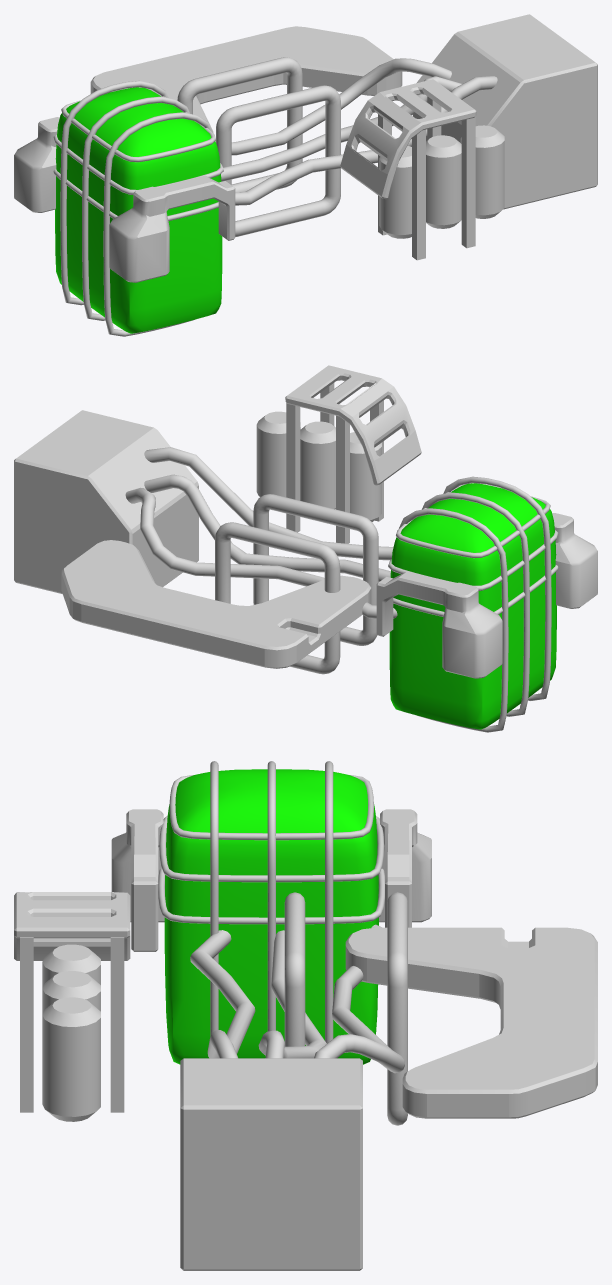
The model's file is static.glb.
3 views of the same model, one above another, from view 1: azimuth 30°, elevation 25°; view 2: azimuth 150°, elevation 25°; view 3: azimuth 270°, elevation 25° (orthographic). The views are drawn at different scales.
Parts seen in each view (by area): view 1: Cube_4, Cube, Boole_2, Cube_2_2, Sweep, Boole, Sweep_1_2, Sweep_Instance, Sweep_0, Cylinder_2, Cylinder_3, Cylinder (+6 smaller); view 2: Cube_4, Cube, Boole_2, Cube_2_2, Sweep, Boole, Sweep_1_2, Sweep_0, Sweep_Instance, Cylinder_2, Cylinder_3, Sweep_3 (+6 smaller); view 3: Cube, Cube_4, Boole_2, Cube_2_2, Sweep, Cylinder_3, Boole, Cube_2, Sweep_Instance, Sweep_0, Sweep_1_2, Sweep_3 (+5 smaller).
Boxes of the visible parts, x1,y1,x2,y2 form: Cube_4: (55, 87, 222, 333); Cube: (413, 14, 597, 209); Boole_2: (90, 26, 402, 132); Cube_2_2: (14, 117, 235, 282); Sweep: (221, 58, 497, 205); Boole: (340, 79, 476, 199); Sweep_1_2: (216, 85, 340, 236); Sweep_Instance: (60, 80, 212, 336); Sweep_0: (177, 57, 302, 192); Cylinder_2: (426, 135, 461, 228); Cylinder_3: (460, 125, 504, 218); Cylinder: (379, 146, 411, 238); Cube_4: (389, 483, 556, 729); Cube: (14, 410, 198, 593); Boole_2: (61, 540, 371, 668); Cube_2_2: (376, 513, 597, 678); Sweep: (125, 447, 397, 618); Boole: (285, 365, 421, 485); Sweep_1_2: (253, 494, 378, 645); Sweep_0: (215, 522, 340, 674); Sweep_Instance: (399, 476, 551, 732); Cylinder_2: (300, 421, 335, 509); Cylinder_3: (256, 411, 300, 497); Sweep_3: (422, 492, 529, 716); Cube: (180, 1058, 362, 1270); Cube_4: (164, 769, 378, 1064); Boole_2: (345, 927, 597, 1118); Cube_2_2: (111, 809, 431, 951); Sweep: (190, 924, 404, 1073); Cylinder_3: (42, 997, 100, 1121); Boole: (14, 892, 130, 960); Cube_2: (20, 937, 124, 1112); Sweep_Instance: (210, 761, 333, 1043); Sweep_0: (387, 892, 407, 1125); Sweep_1_2: (284, 892, 305, 1046); Sweep_3: (267, 761, 275, 1031).
Bounding box in the file's own units: 2.37 × 0.985 × 1.82.
1 material, 1 textured.
